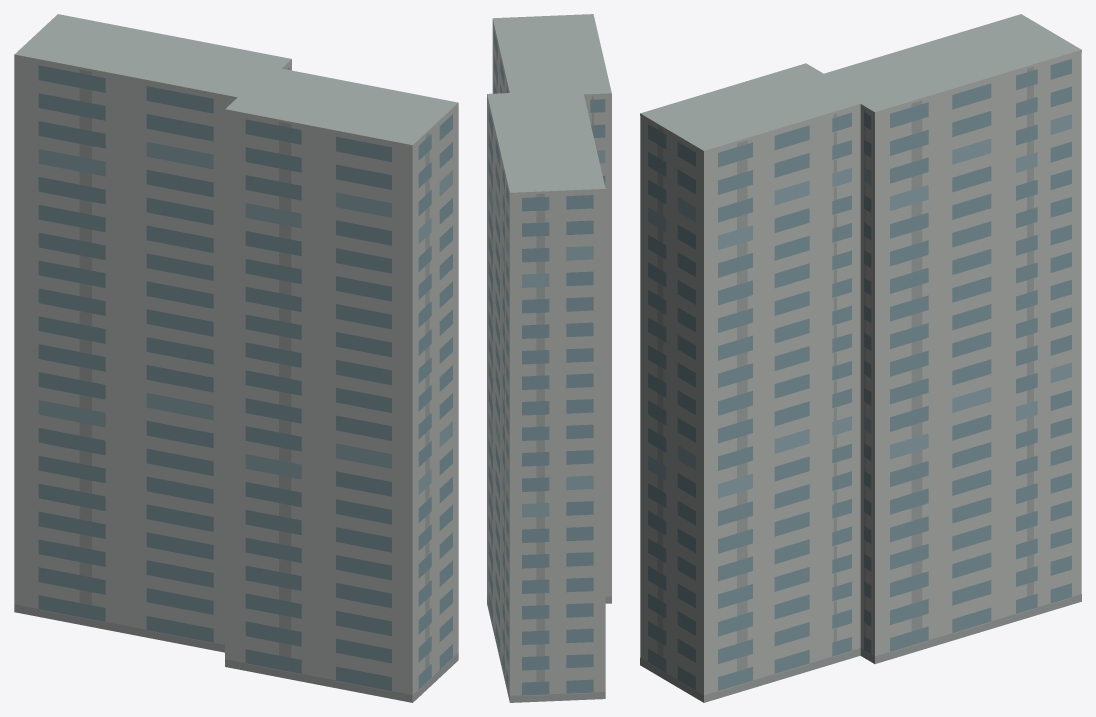
The model's file is residential-22922776-1451-4390-8e12-6f62c2ec2ffc.glb.
3 views of the same model, side by side, from view 1: azimuth 30°, elevation 25°; view 2: azimuth 150°, elevation 25°; view 3: azimuth 270°, elevation 25° (orthographic). The views are drawn at different scales.
Visible parts, largest first — view 1: residential-22922776-1451-4390-8e12-6f62c2ec2ffc.tmp; view 2: residential-22922776-1451-4390-8e12-6f62c2ec2ffc.tmp; view 3: residential-22922776-1451-4390-8e12-6f62c2ec2ffc.tmp.
Boxes of the visible parts, x1,y1,x2,y2 form: residential-22922776-1451-4390-8e12-6f62c2ec2ffc.tmp: [14, 14, 458, 702]; residential-22922776-1451-4390-8e12-6f62c2ec2ffc.tmp: [487, 14, 611, 702]; residential-22922776-1451-4390-8e12-6f62c2ec2ffc.tmp: [640, 14, 1081, 702].
Size of the model in its own units: 29.29 by 55 by 39.9.
